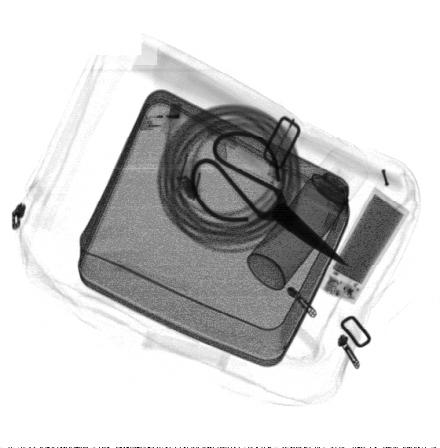Lighter: (139, 111, 191, 134)
Powerbank: (314, 185, 412, 305)
Scissors: (188, 126, 355, 271)
Sprayer: (248, 136, 372, 294)
